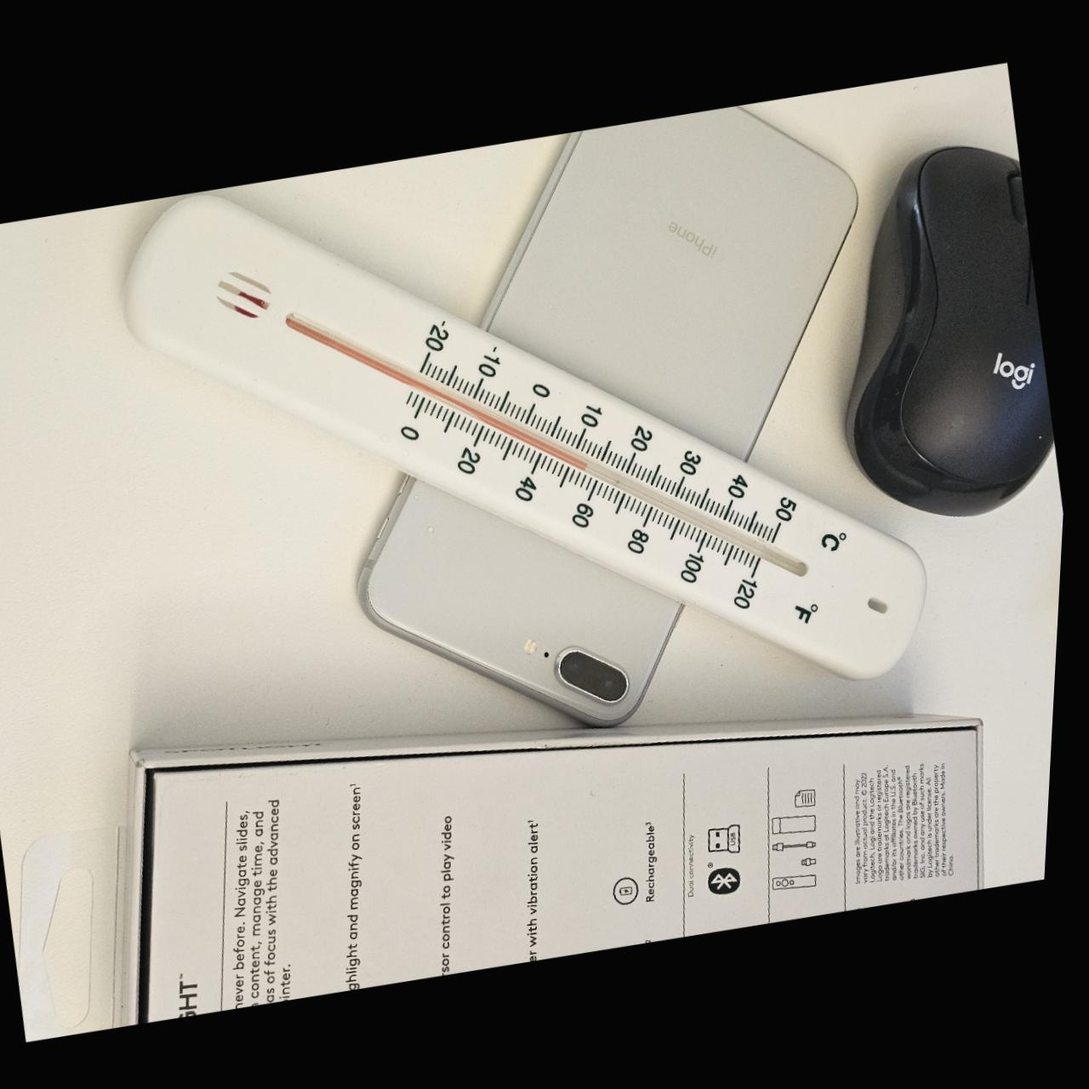thermometer: (75, 74, 972, 799)
